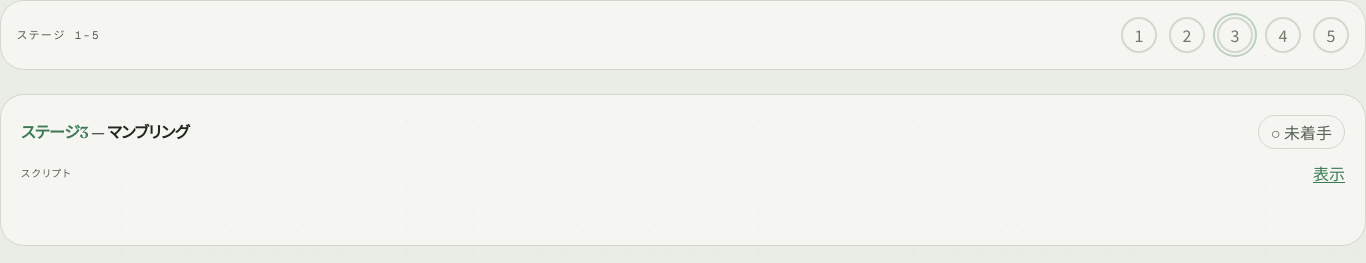
SegmentStageWorkspace › updates the selected stage status from the panel header
Click the button "○ 未着手" at point(1301, 132), box left=1258, top=115, right=1345, bottom=149
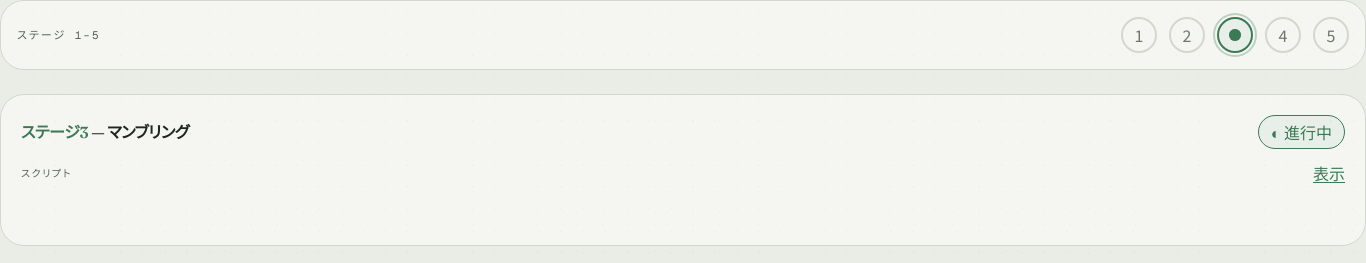
Expected: the button "◐ 進行中" is shown, left=1258, top=115, right=1345, bottom=149
